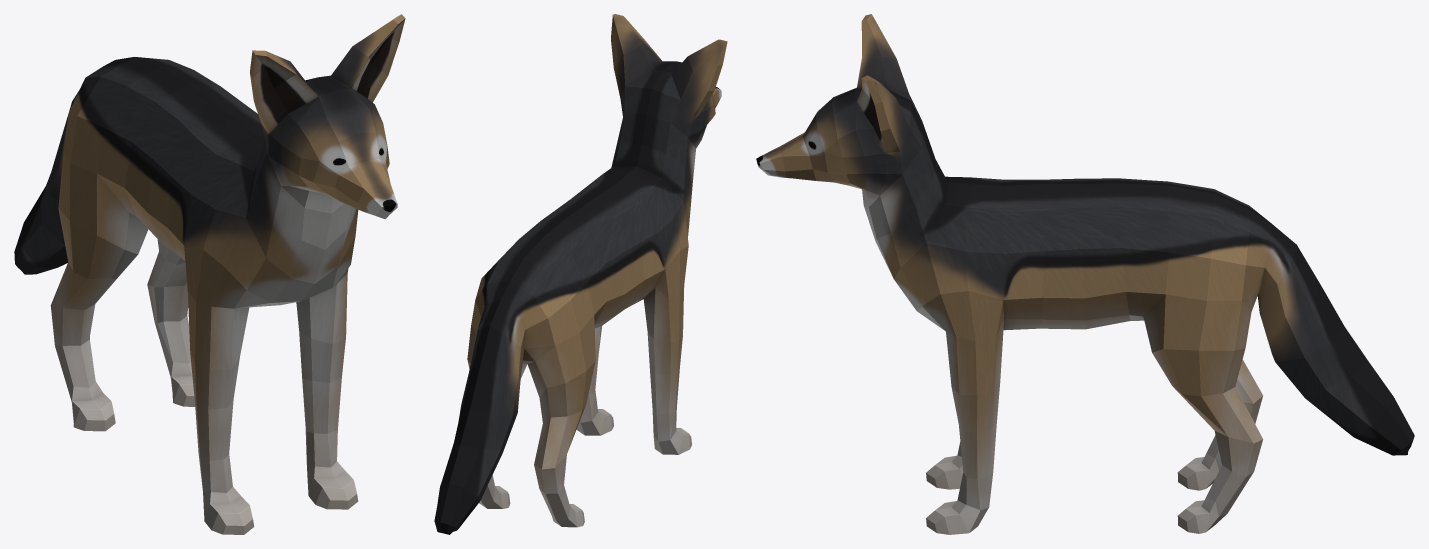
The model's file is 7dbbf50e-1723-44cf-a5c5-c6d442c1e159.glb.
The picture shows the model from 3 angles, left to right: view 1: azimuth 30°, elevation 25°; view 2: azimuth 150°, elevation 25°; view 3: azimuth 270°, elevation 25°; orthographic projection. The views are drawn at different scales.
Visible parts, largest first — view 1: Jackal_Mesh; view 2: Jackal_Mesh; view 3: Jackal_Mesh.
Boxes of the visible parts, x1,y1,x2,y2 form: Jackal_Mesh: (14, 14, 405, 534); Jackal_Mesh: (434, 14, 727, 534); Jackal_Mesh: (756, 14, 1414, 534).
Bounding box in the file's own units: 1.37 × 4.47 × 5.83.
Materials: 1 (1 with a texture image).
